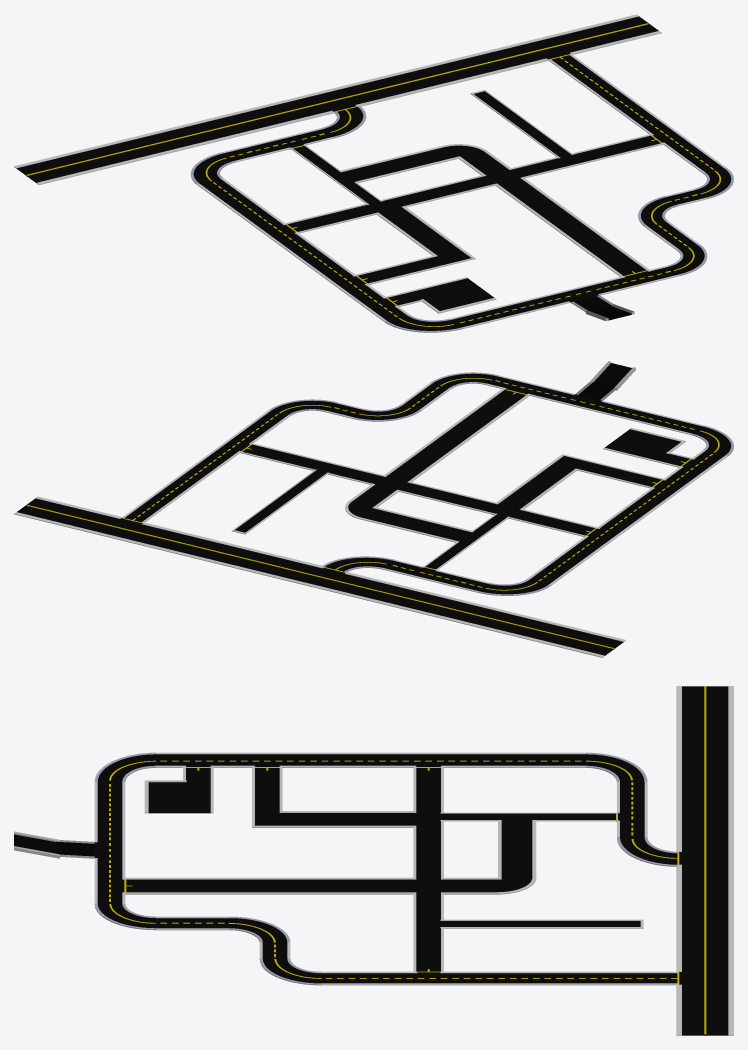
File: Streets.obj
3 renders of one model, top to bottom at view 1: azimuth 30°, elevation 25°; view 2: azimuth 150°, elevation 25°; view 3: azimuth 270°, elevation 25°, orthographic. The views are drawn at different scales.
Visible parts, largest first — view 1: straight_186, straight_139, straight_147, straight_144, straight_184, straight_146, bend_large_47, straight_91, straight_83, bend_large_93, bend_large_132, straight_103 (+12 smaller); view 2: straight_186, straight_139, straight_147, straight_144, straight_184, straight_146, straight_91, bend_large_93, bend_large_132, straight_83, bend_large_47, slope_3_18 (+14 smaller); view 3: straight_186, straight_139, straight_147, straight_144, straight_184, straight_146, straight_91, bend_large_47, bend_large_93, bend_large_132, straight_83, straight_124 (+31 smaller).
Boxes of the visible parts, x1,y1,x2,y2 form: straight_186: (14, 132, 177, 184); straight_139: (282, 64, 458, 233); straight_147: (421, 42, 548, 200); straight_144: (208, 94, 334, 137); straight_184: (547, 14, 661, 54); straight_146: (153, 119, 434, 207); bend_large_47: (384, 315, 463, 332); straight_91: (197, 178, 354, 281); straight_83: (228, 201, 394, 285); bend_large_93: (190, 152, 235, 184); bend_large_132: (321, 105, 366, 137); straight_103: (308, 157, 449, 272); straight_186: (471, 608, 625, 657); straight_139: (205, 521, 599, 584); straight_147: (121, 488, 468, 560); straight_144: (323, 572, 442, 612); straight_184: (14, 496, 121, 534); straight_146: (419, 496, 498, 625); straight_91: (526, 488, 675, 585); bend_large_93: (477, 579, 550, 595); bend_large_132: (322, 556, 395, 572); straight_83: (555, 473, 666, 564); bend_large_47: (691, 425, 733, 455); slope_3_18: (590, 361, 635, 390); straight_186: (676, 686, 733, 764); straight_139: (413, 765, 733, 921); straight_147: (413, 843, 733, 971); straight_144: (676, 794, 733, 851); straight_184: (676, 984, 733, 1035); straight_146: (413, 764, 733, 843); straight_91: (282, 752, 585, 767); bend_large_47: (94, 752, 155, 782); bend_large_93: (586, 752, 647, 782); bend_large_132: (617, 837, 678, 866); straight_83: (252, 752, 516, 782); straight_124: (340, 752, 536, 840).
Bounding box in the file's own units: 21.5 × 0.3475 × 18.75.
